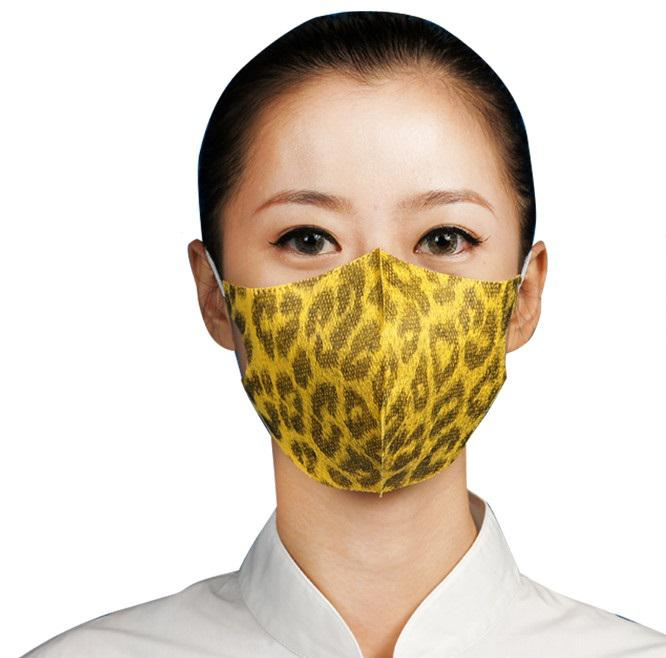OK: (221, 175, 522, 476)
